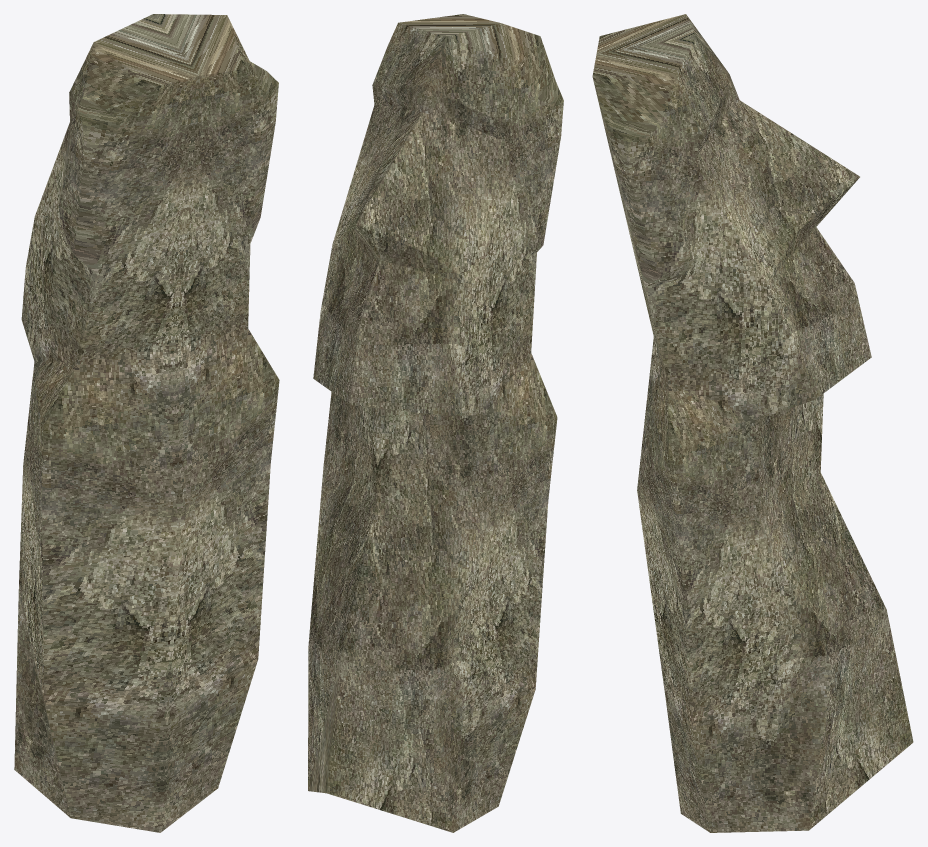
Rendered from stage-east-p7-124.glb.
The picture shows the model from 3 angles, left to right: view 1: azimuth 30°, elevation 25°; view 2: azimuth 150°, elevation 25°; view 3: azimuth 270°, elevation 25°; orthographic projection. The views are drawn at different scales.
Size of the model in its own units: 7.8 by 26.78 by 10.02.
Materials: 1 (1 with a texture image).
